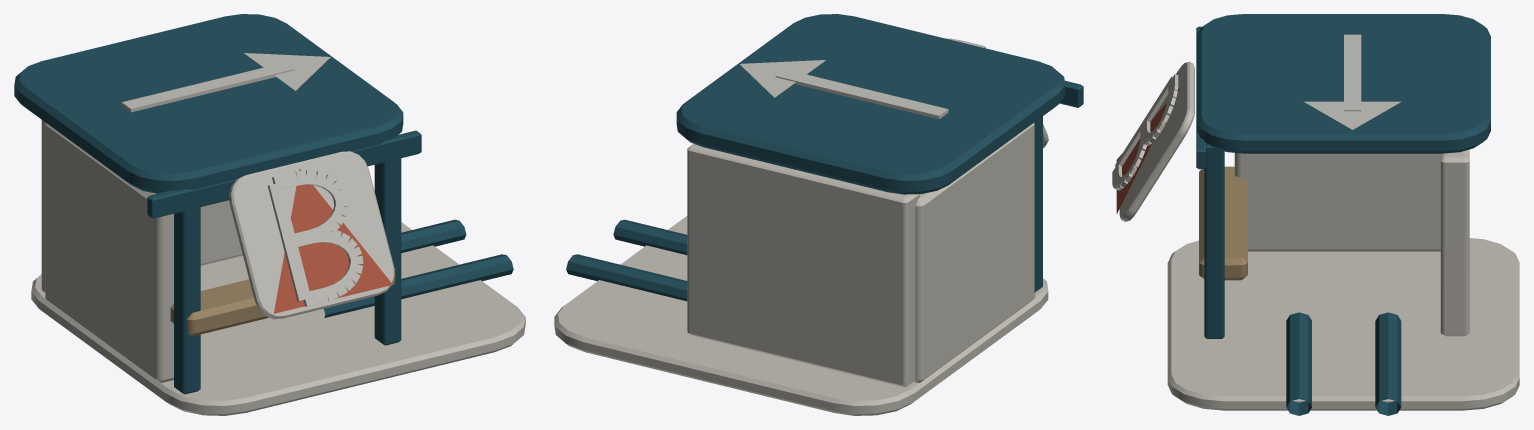
The model's file is guichet_b.glb.
3 renders of one model, left to right at view 1: azimuth 30°, elevation 25°; view 2: azimuth 150°, elevation 25°; view 3: azimuth 270°, elevation 25°, orthographic. The views are drawn at different scales.
Parts seen in each view (by area): view 1: Batch_CeramicSatin, Batch_StationPaint, Batch_CeramicLabel, Batch_LetterIvory, Batch_AddressB, Batch_PaintedMetal, Batch_WarmKraft; view 2: Batch_CeramicSatin, Batch_StationPaint, Batch_PaintedMetal, Batch_LetterIvory; view 3: Batch_CeramicSatin, Batch_StationPaint, Batch_PaintedMetal, Batch_LetterIvory, Batch_CeramicLabel, Batch_WarmKraft, Batch_AddressB.
Part boxes in pixels (x1,y1,x2,y2): Batch_CeramicSatin: (31, 120, 525, 415); Batch_StationPaint: (14, 14, 421, 394); Batch_CeramicLabel: (229, 151, 394, 319); Batch_LetterIvory: (121, 53, 363, 306); Batch_AddressB: (273, 169, 392, 313); Batch_PaintedMetal: (324, 219, 513, 317); Batch_WarmKraft: (170, 268, 395, 336); Batch_CeramicSatin: (554, 123, 1048, 415); Batch_StationPaint: (676, 14, 1083, 292); Batch_PaintedMetal: (566, 219, 687, 301); Batch_LetterIvory: (740, 38, 985, 119); Batch_CeramicSatin: (1167, 149, 1519, 410); Batch_StationPaint: (1196, 14, 1490, 338); Batch_PaintedMetal: (1286, 312, 1401, 415); Batch_LetterIvory: (1112, 34, 1401, 190); Batch_CeramicLabel: (1119, 61, 1194, 221); Batch_WarmKraft: (1199, 166, 1247, 280); Batch_AddressB: (1116, 88, 1179, 213).
Bounding box in the file's own units: 1 × 0.566 × 0.9146.
